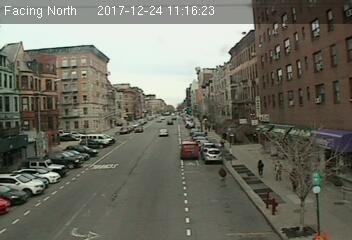car: (180, 140, 200, 160), (203, 148, 223, 162), (158, 129, 168, 136)
pedestrian: (215, 165, 227, 185), (273, 160, 283, 182), (257, 155, 266, 179)
